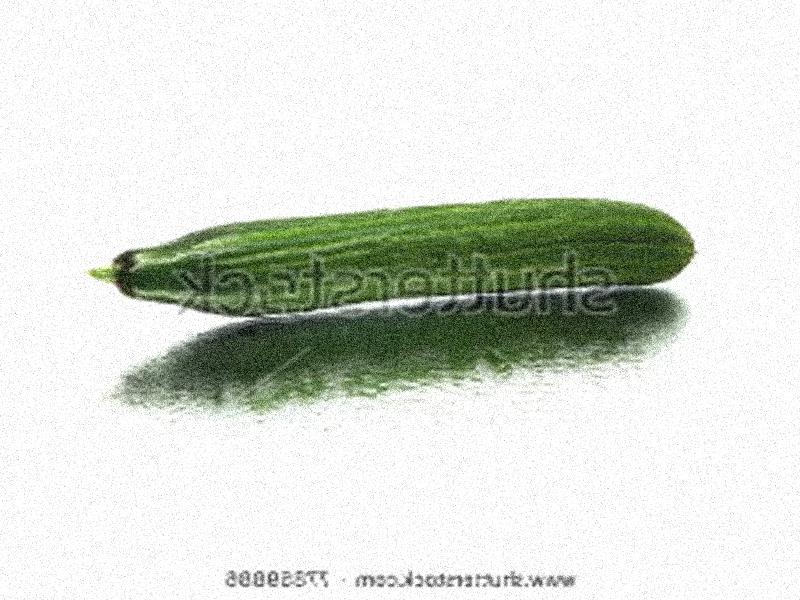Cucumber: (91, 196, 690, 317)
